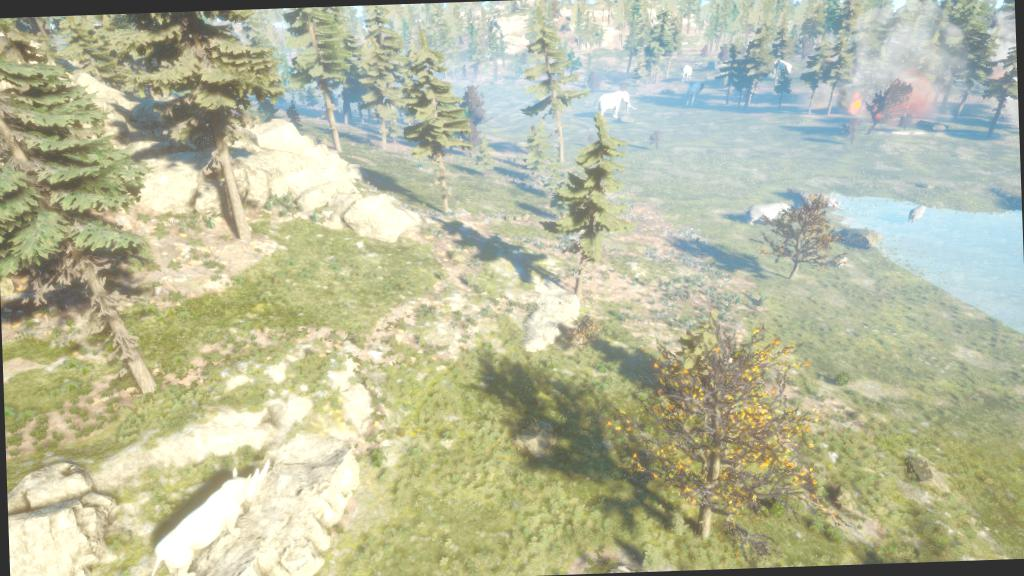Fire: (846, 86, 865, 118)
elephant: (594, 89, 638, 120), (683, 79, 708, 108), (677, 62, 693, 82)
hippopotamus: (744, 200, 793, 229), (902, 202, 929, 225)
rhinoceros: (141, 453, 281, 575)
smoke: (851, 9, 957, 86)
